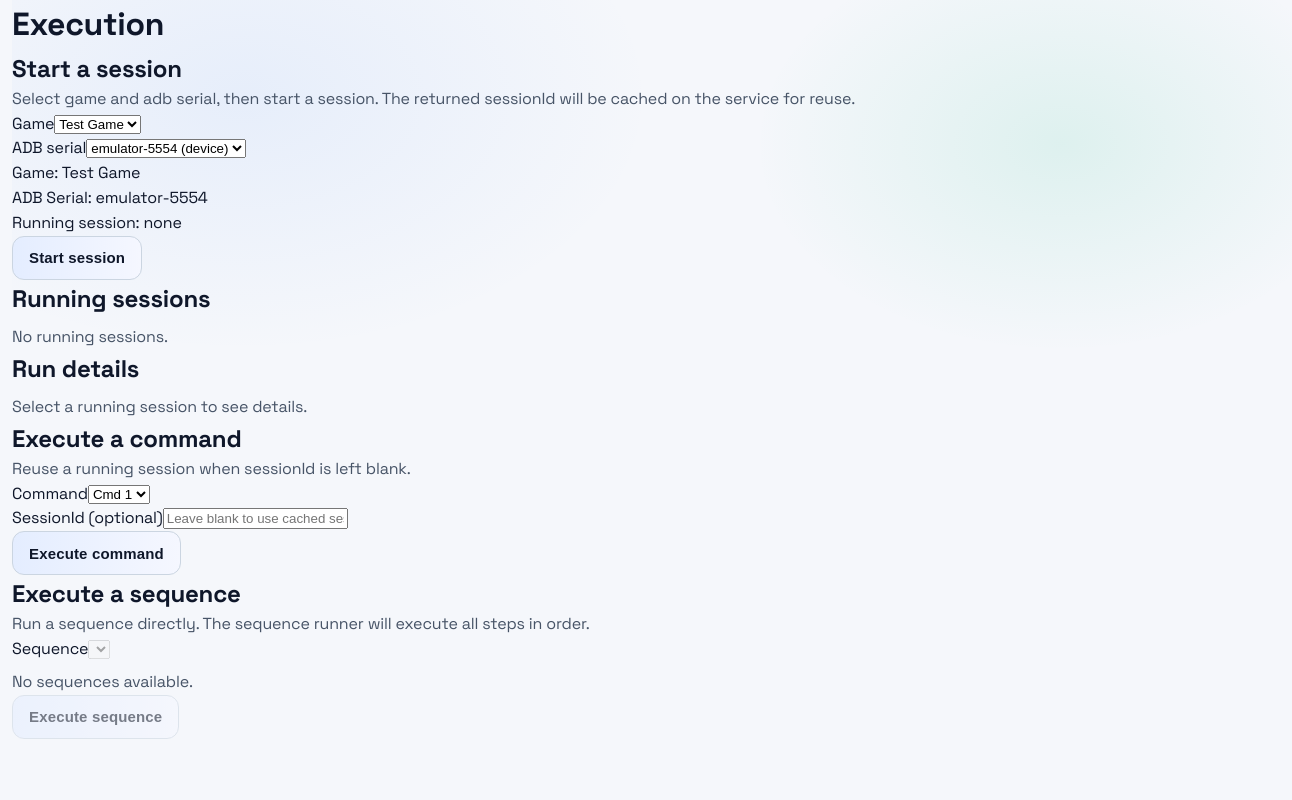
ExecutionPage › shows an error when start fails
What coordinates should you click on to do the following:
click the button "Start session"
I would click on:
 (77, 258)
Its box is [12, 236, 142, 280].
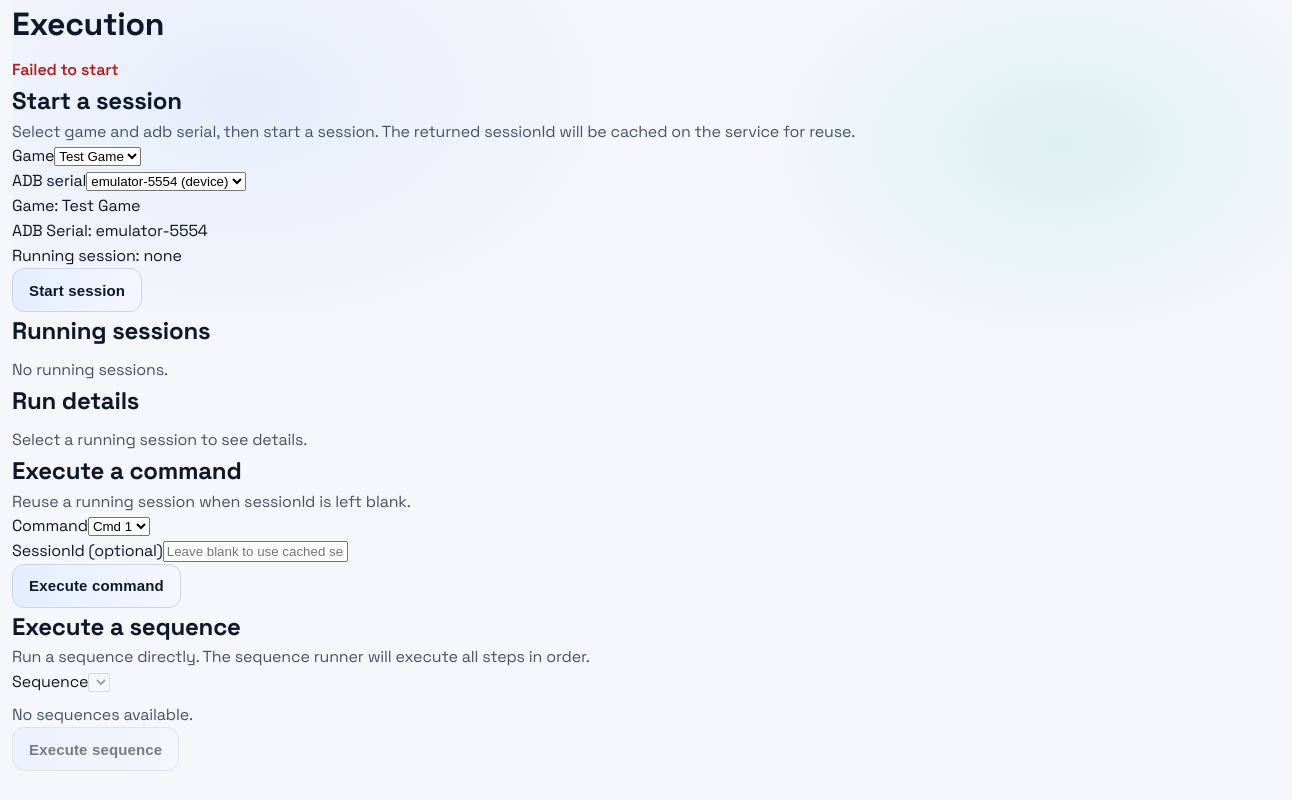
Expected: the message reads "Failed to start", [12, 59, 118, 80]
